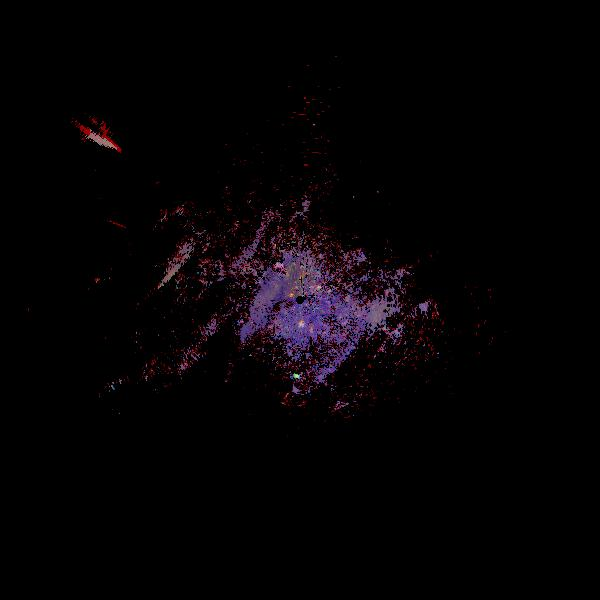roost: (290, 369, 305, 384)
